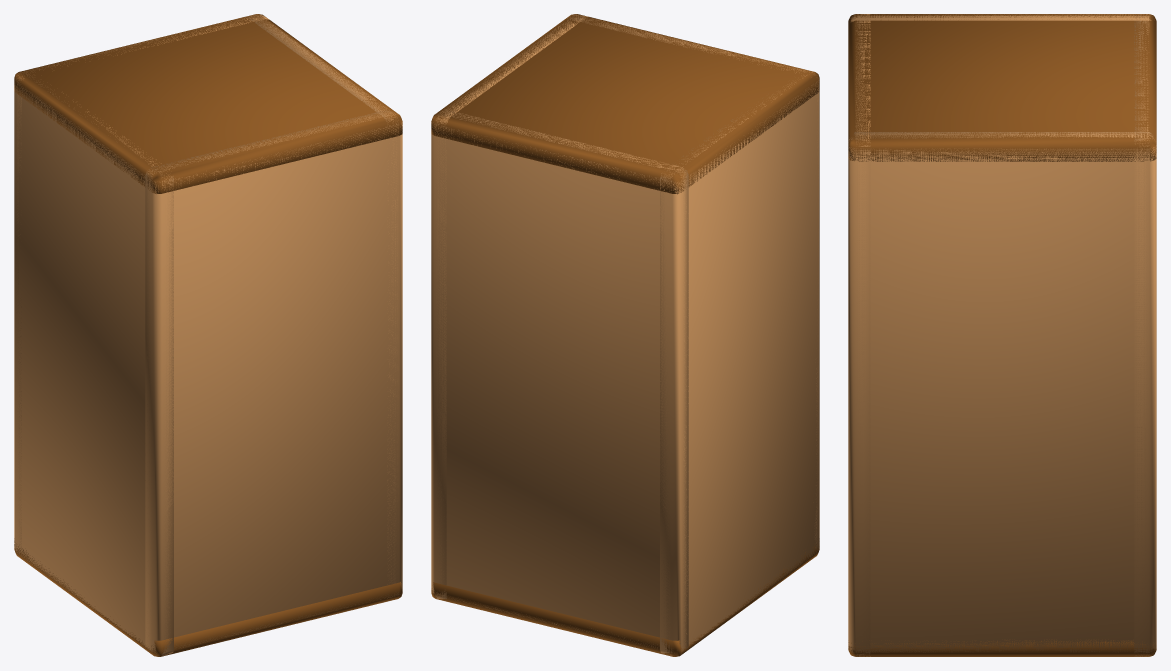
File: v_crate_tall.glb
The picture shows the model from 3 angles, left to right: view 1: azimuth 30°, elevation 25°; view 2: azimuth 150°, elevation 25°; view 3: azimuth 270°, elevation 25°; orthographic projection. The views are drawn at different scales.
Parts seen in each view (by area): view 1: GenCrate; view 2: GenCrate; view 3: GenCrate.
Part boxes in pixels (box(x1,y1,x2,y2)): GenCrate: box(14, 14, 402, 656); GenCrate: box(431, 14, 819, 656); GenCrate: box(848, 14, 1156, 656).
Bounding box in the file's own units: 0.62 × 1.15 × 0.62.
